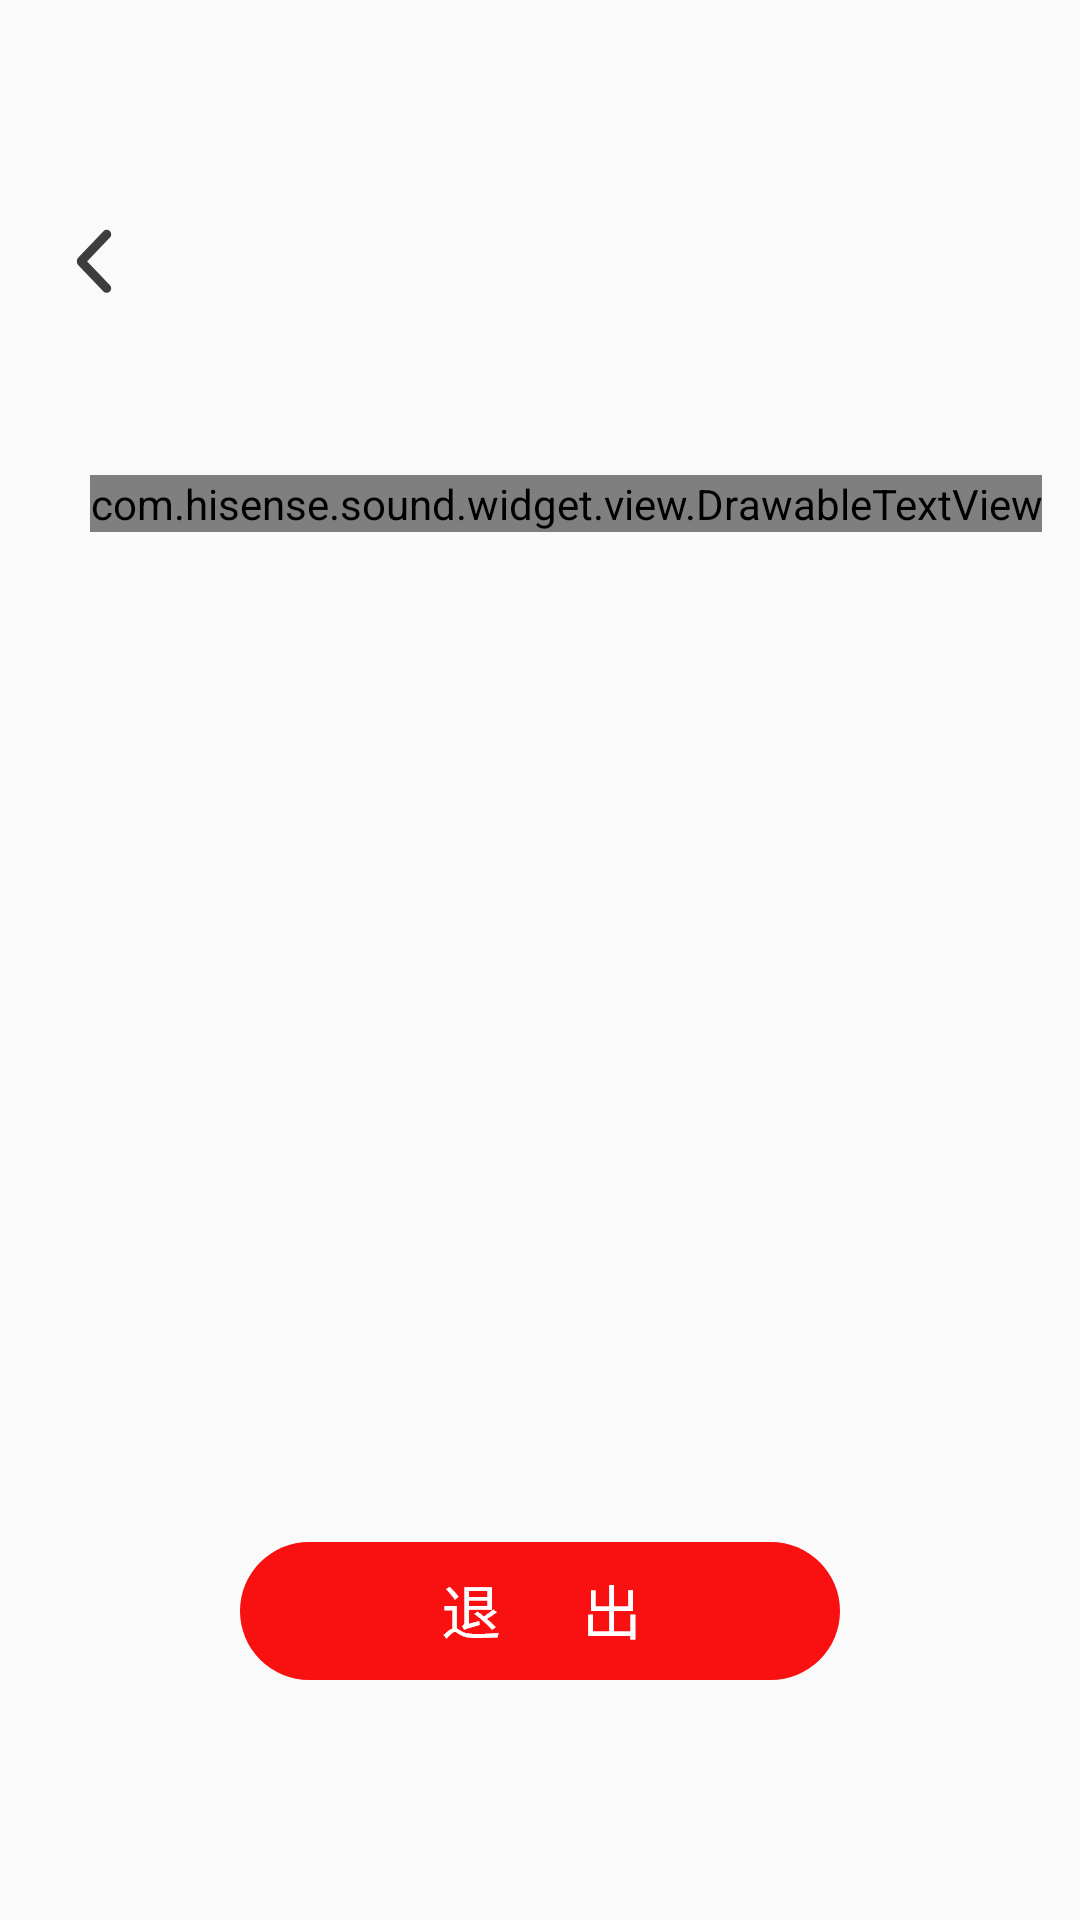

Point at icon controls on the screen. Image size 1080×1920, points as [x,y].
back: [94,261]
